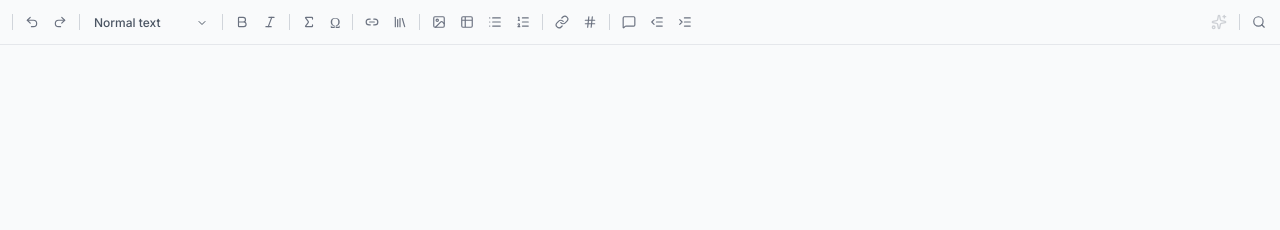
Test: EditorToolbar — Table Dropdown › opens table dropdown on click
Click the button titled "Insert table".
click(467, 22)  # box left=454, top=9, right=480, bottom=35
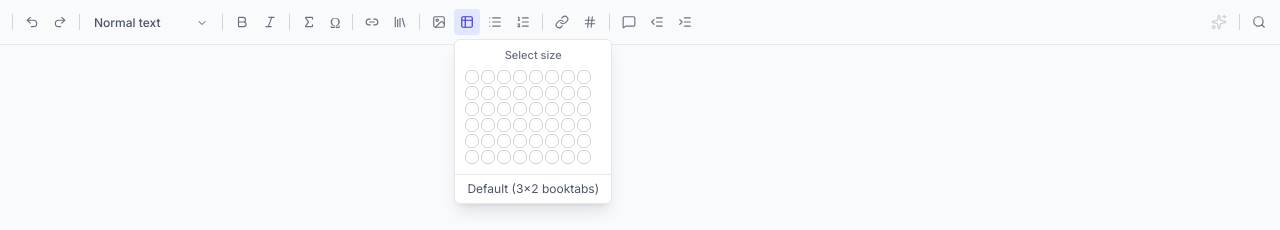
Expected: the text "Select size" is shown, left=505, top=48, right=562, bottom=62
Expected: the button "Default (3×2 booktabs)" is shown, left=455, top=175, right=611, bottom=203
